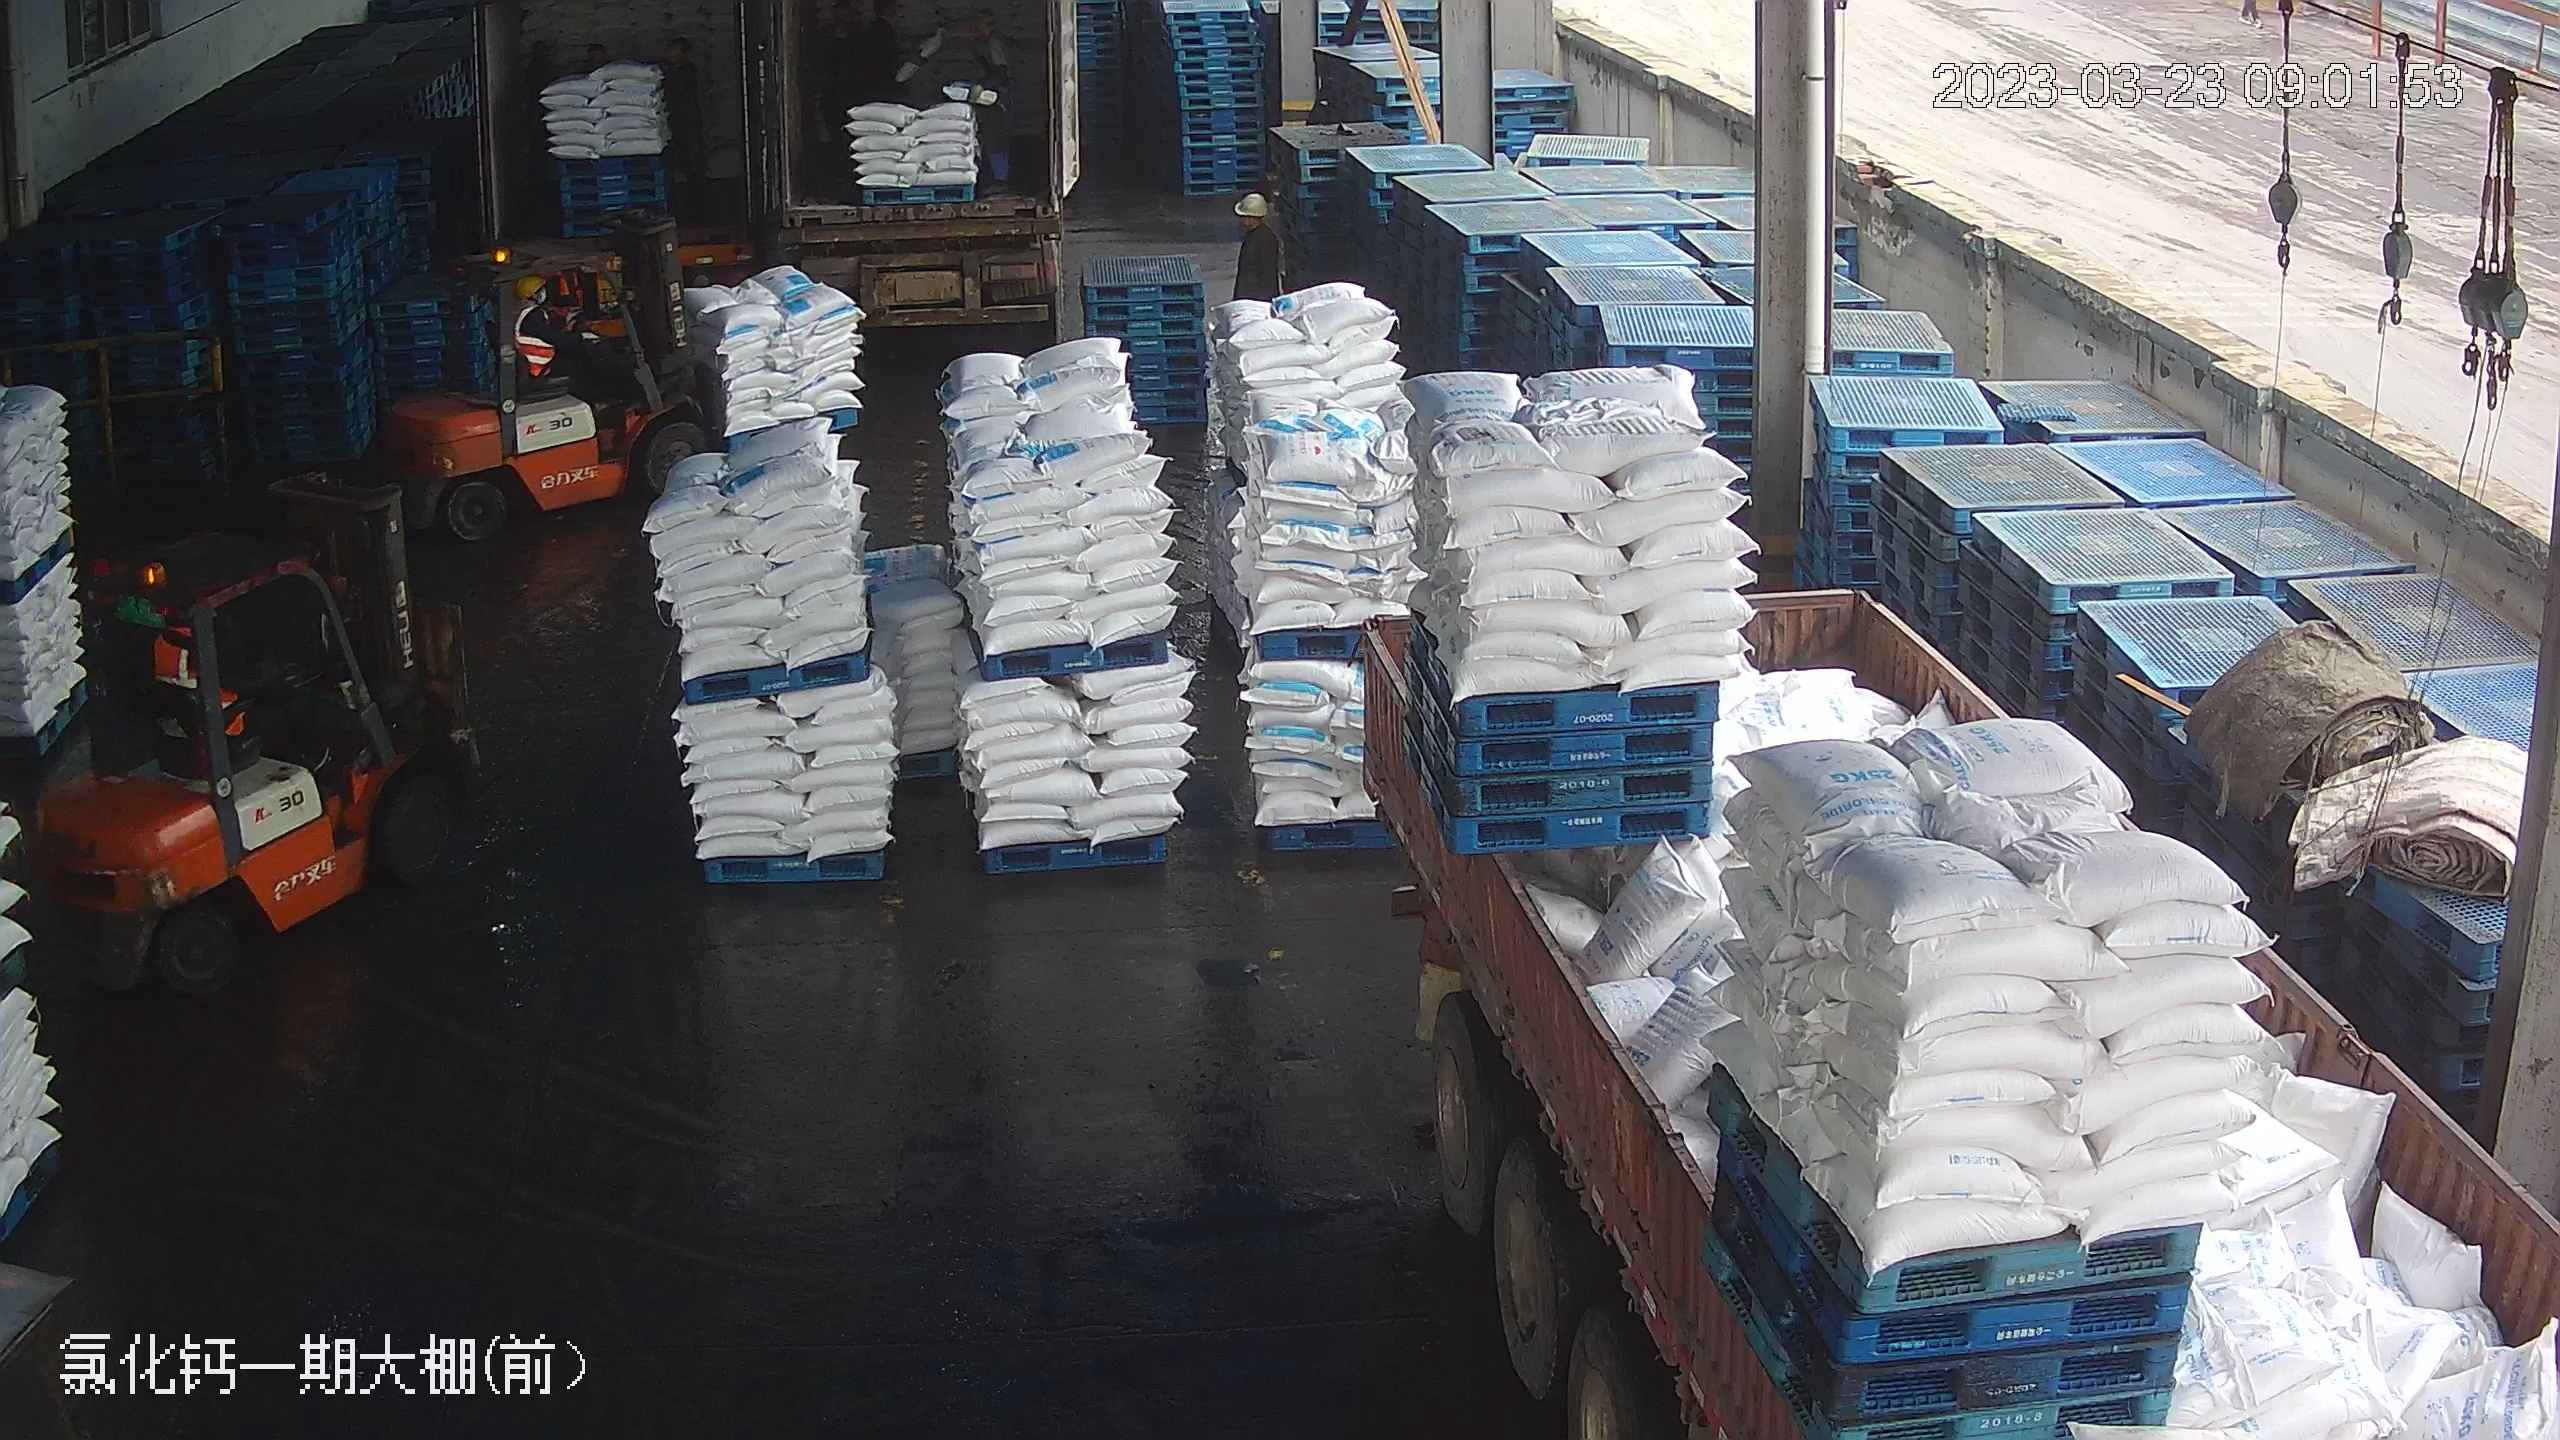head: (1233, 190, 1285, 268), (510, 270, 561, 332)
helmet: (1241, 190, 1274, 217), (511, 270, 542, 295)
people: (512, 270, 632, 417)
truck: (1290, 291, 2542, 1436), (762, 5, 1092, 316), (464, 13, 765, 264)
